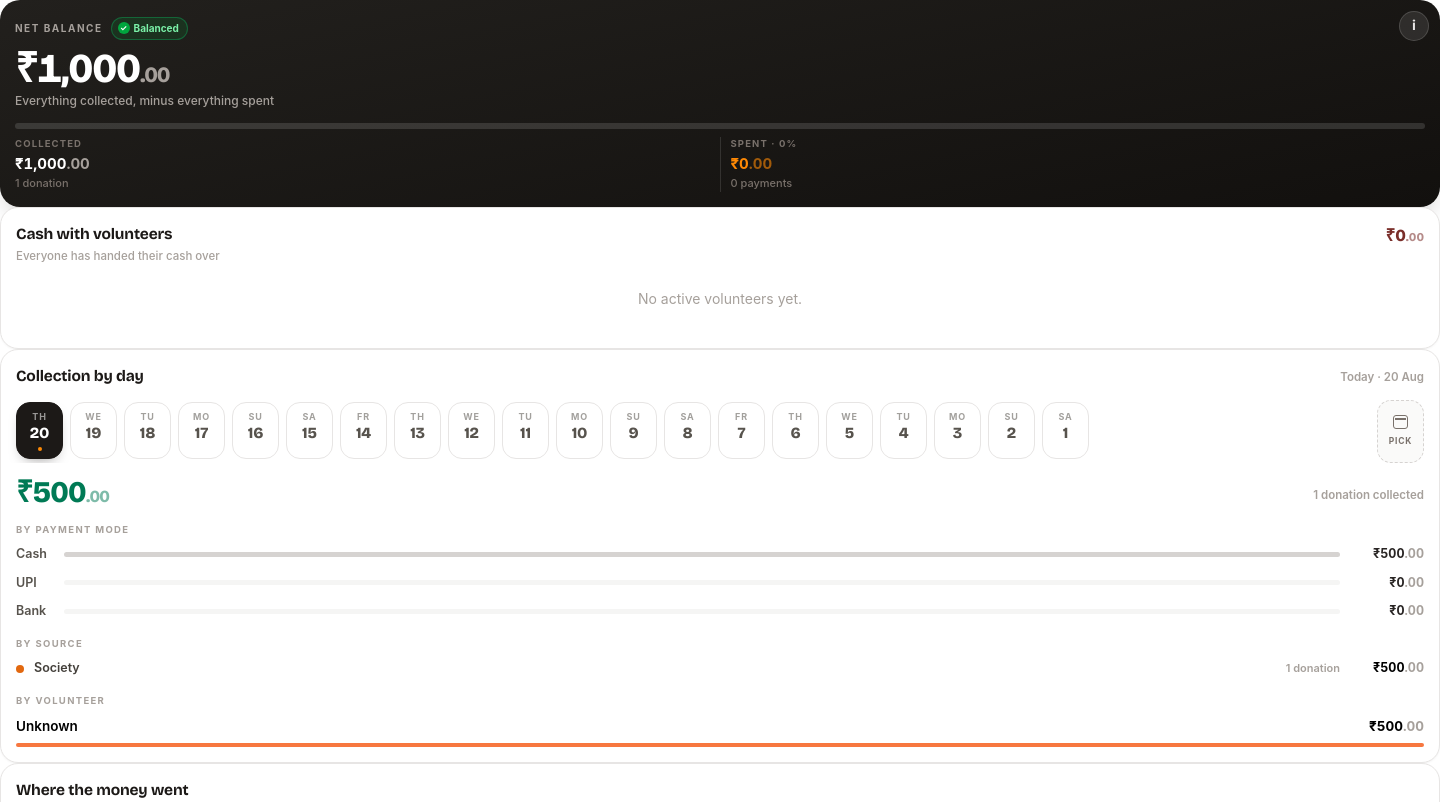
Test case: MasterLedgerContent — the Overview tab › switches day on a tile tap and says so when the day is empty
Check: the heading "Collection by day" is shown, box [16,365,144,388]
Click the button "We 19" at (94, 430), box [70,402,117,459]
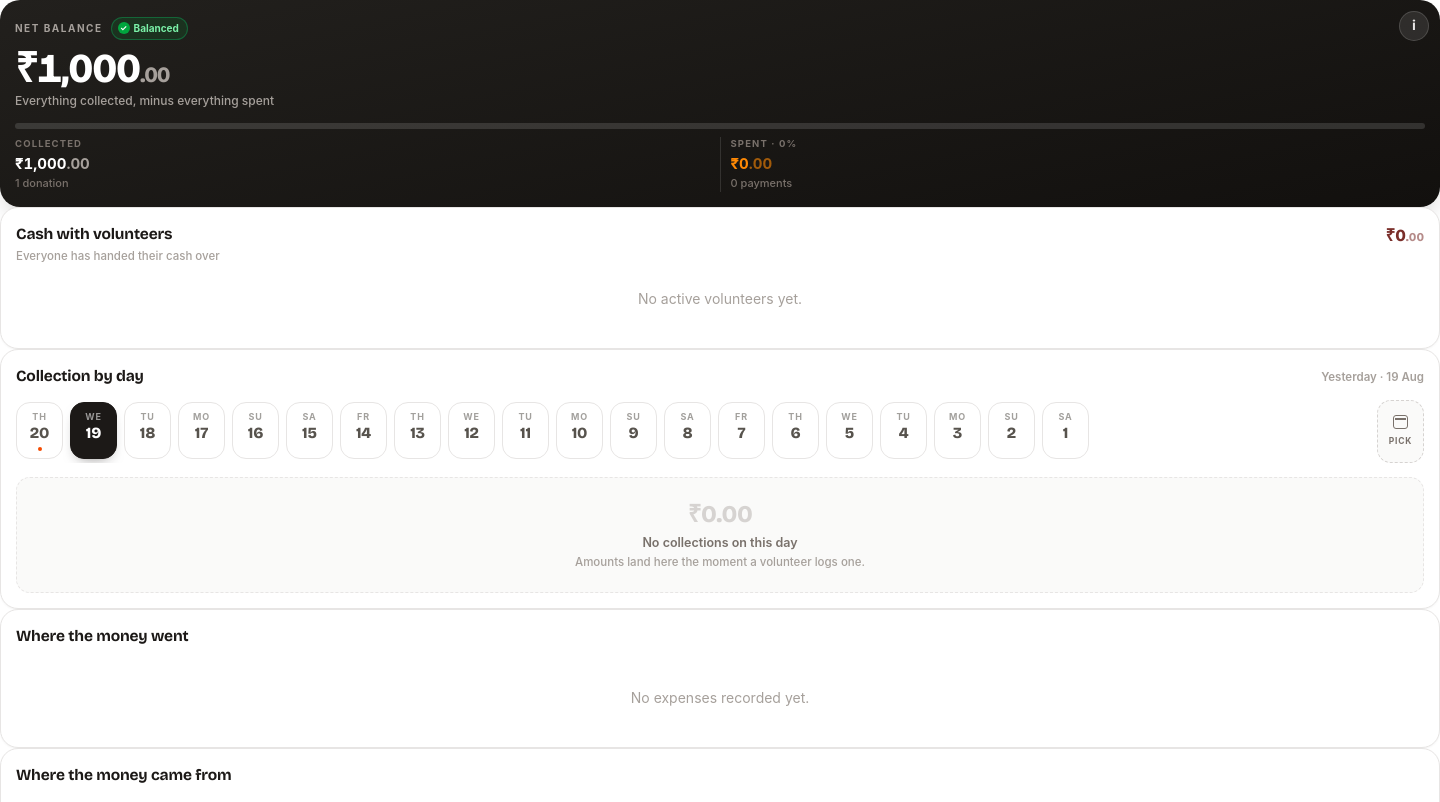
Check: the text "No collections on this day" is shown, box [642,535,798,550]
Check: the text "Amounts land here the moment a volunteer logs one." is shown, box [575,555,865,569]
Check: the text "By payment mode" is gone
